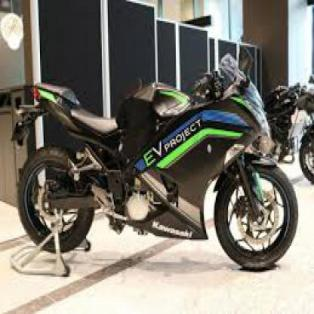Motocicleta: (11, 54, 300, 276)
